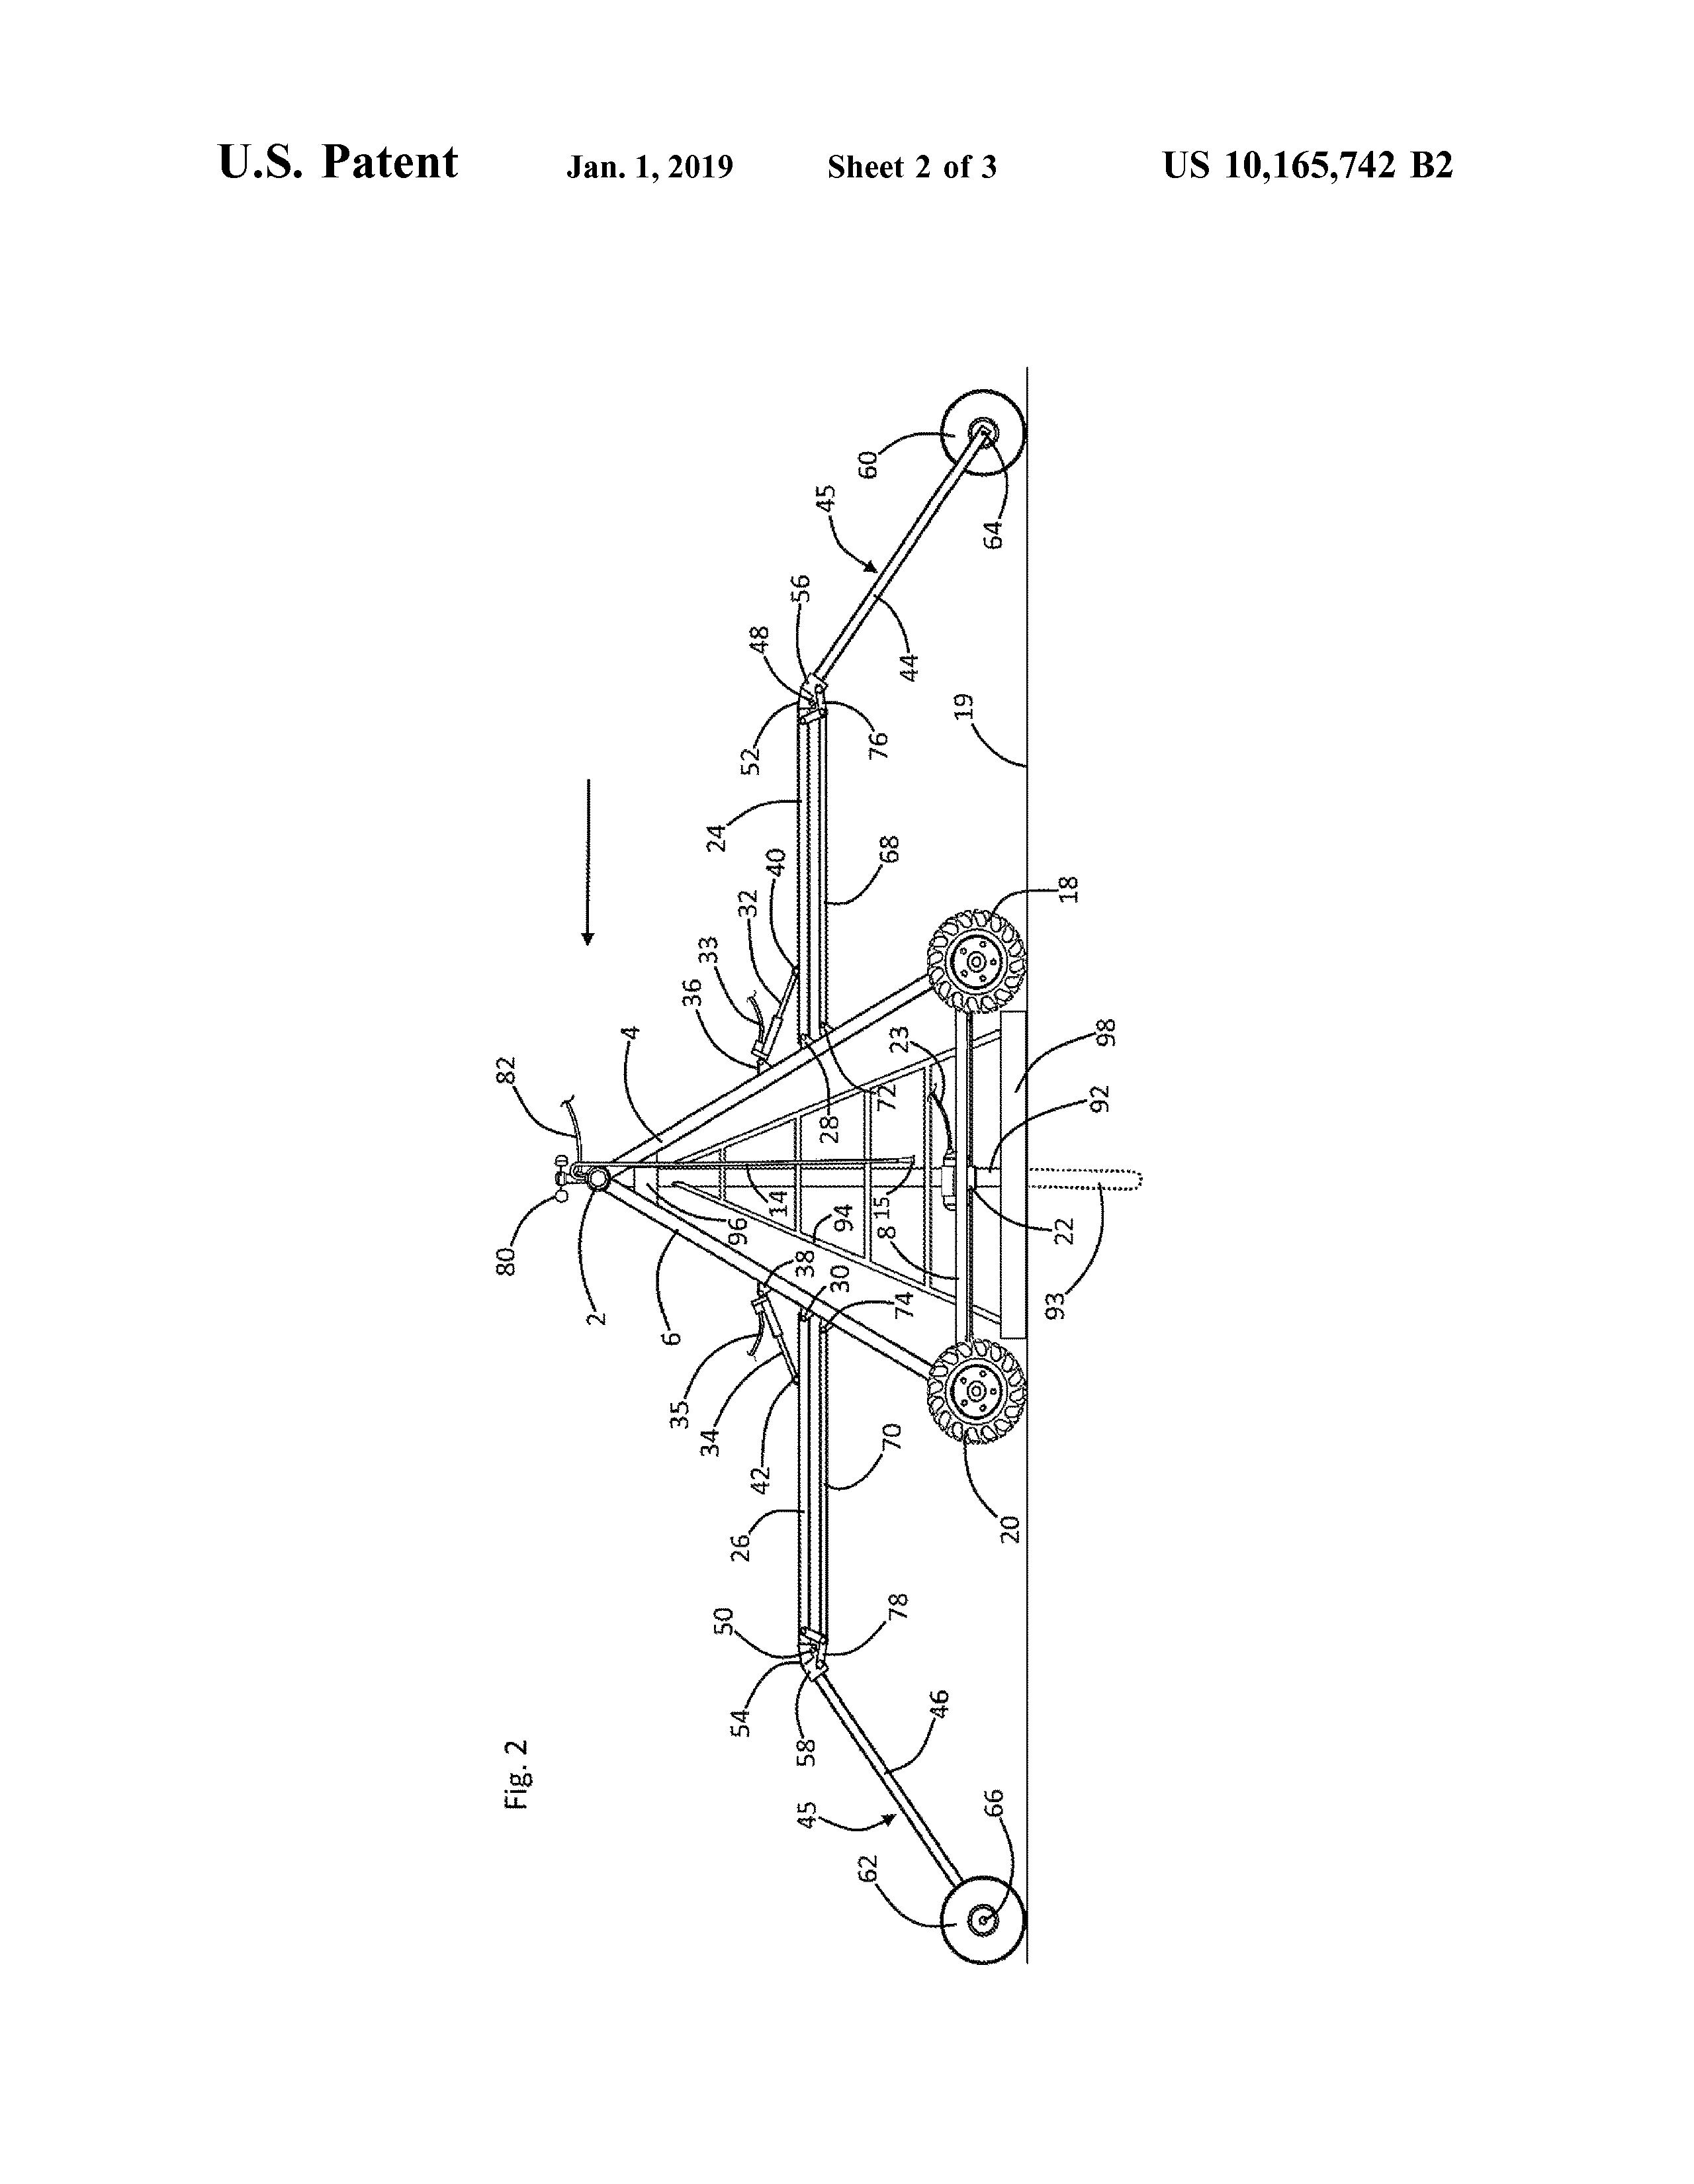patent image: (440, 328, 1165, 2029)
